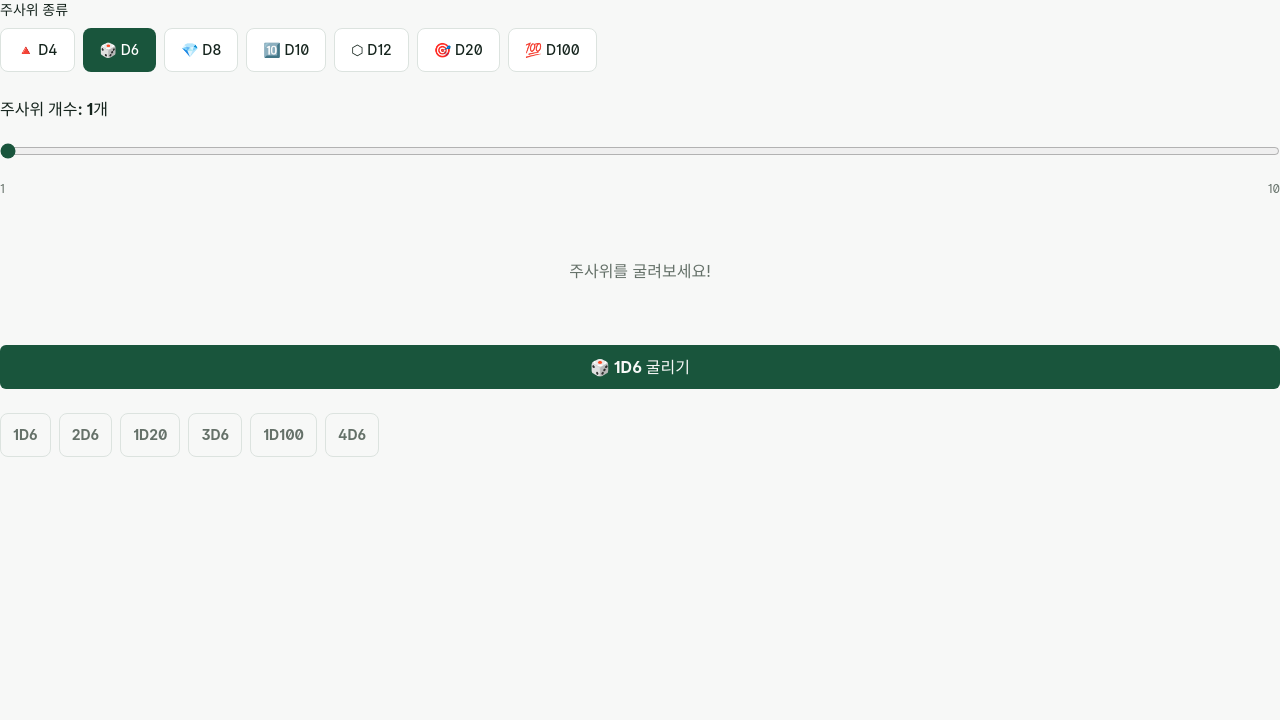
Test: legacy simple tool behavior › rolls a configured dice preset within its advertised boundary
Click the button "2D6".
click(85, 435)  # box [59,413,112,457]
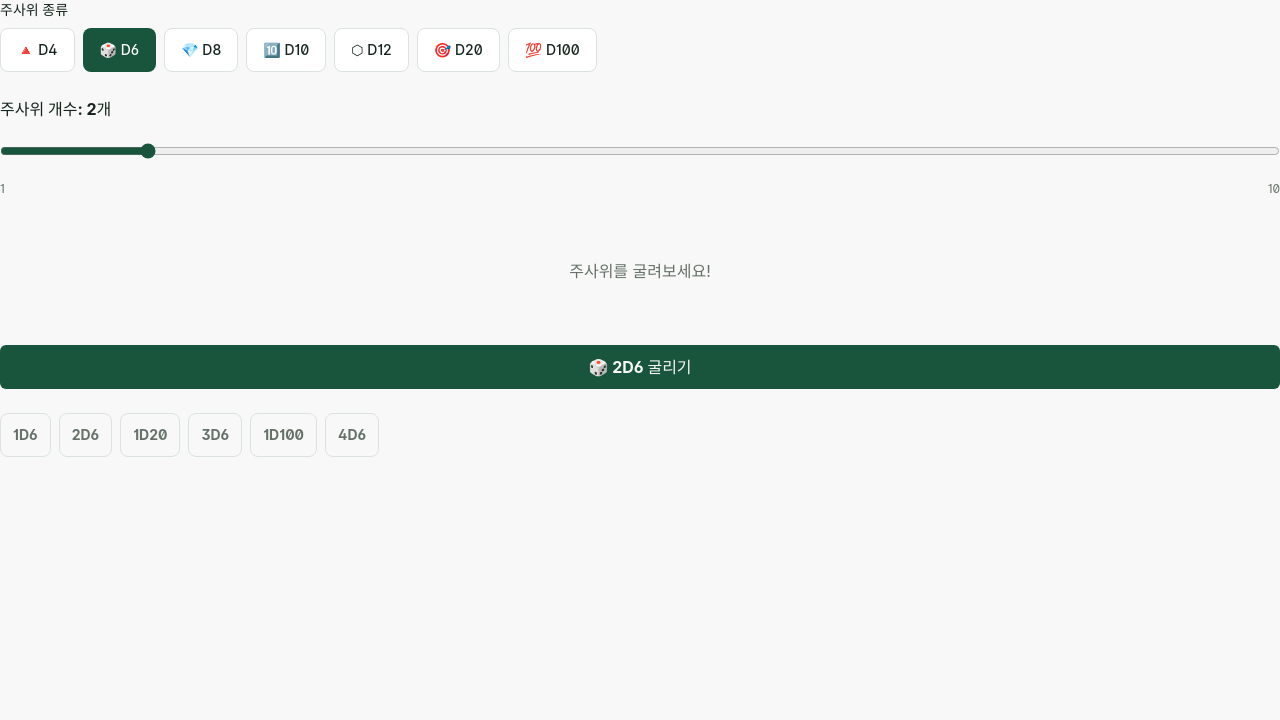
Click the button "🎲 2D6 굴리기".
click(640, 367)  # box [0,345,1279,389]
Wait 800 ms
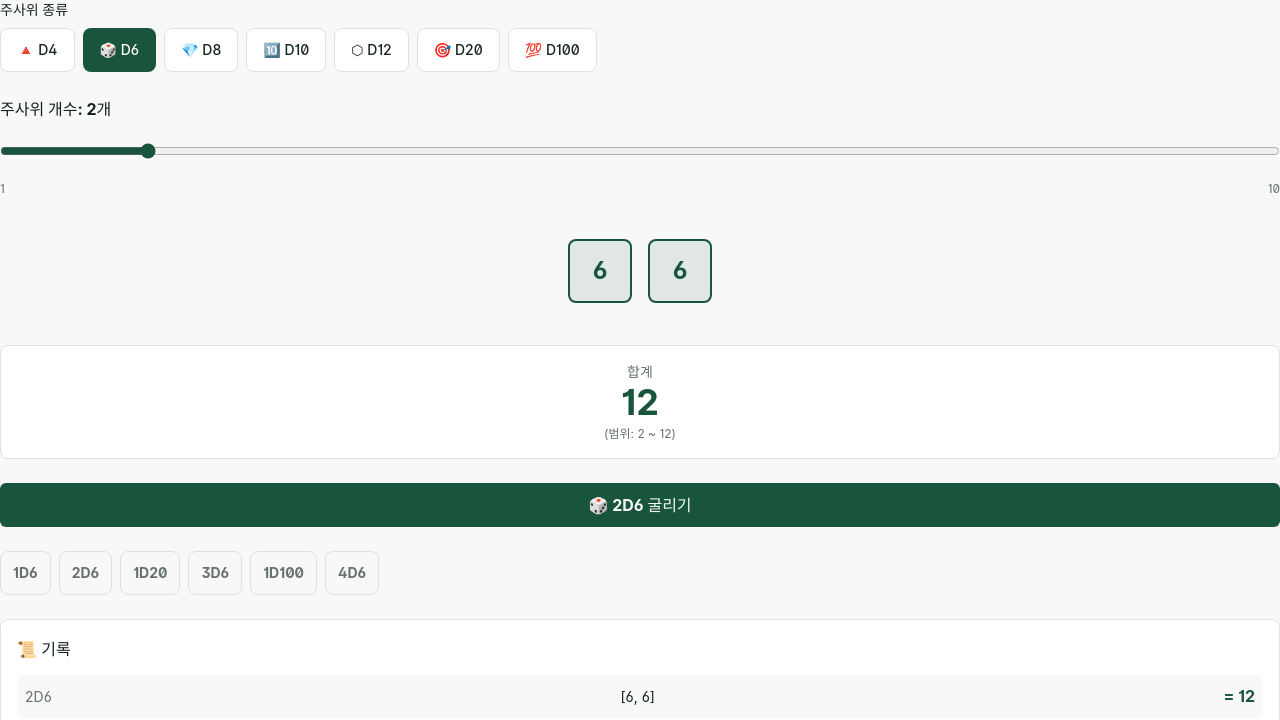
Result: the text "12" is shown at [621,380,659,424]
Result: the text "(범위: 2 ~ 12)" is shown at [604,426,676,441]
